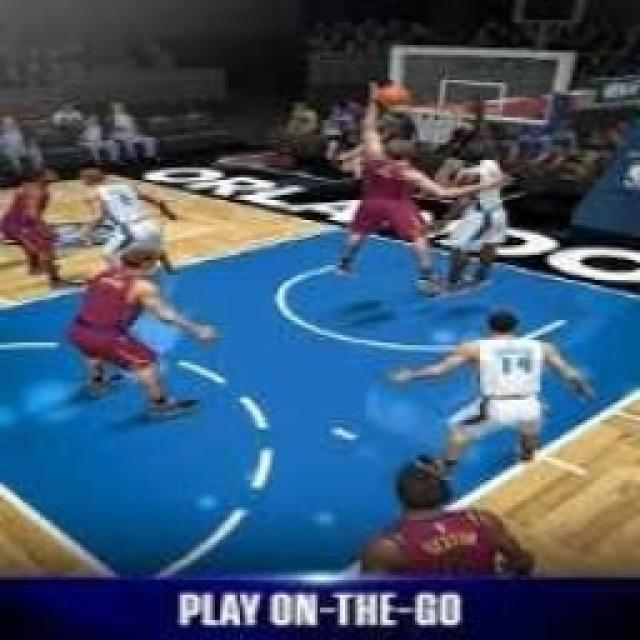rim: (378, 80, 407, 110)
